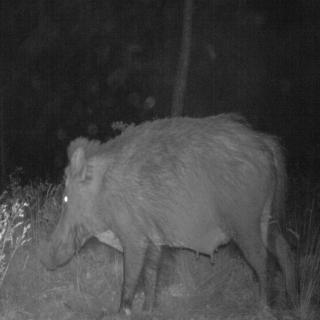Pig: (44, 113, 306, 318)
